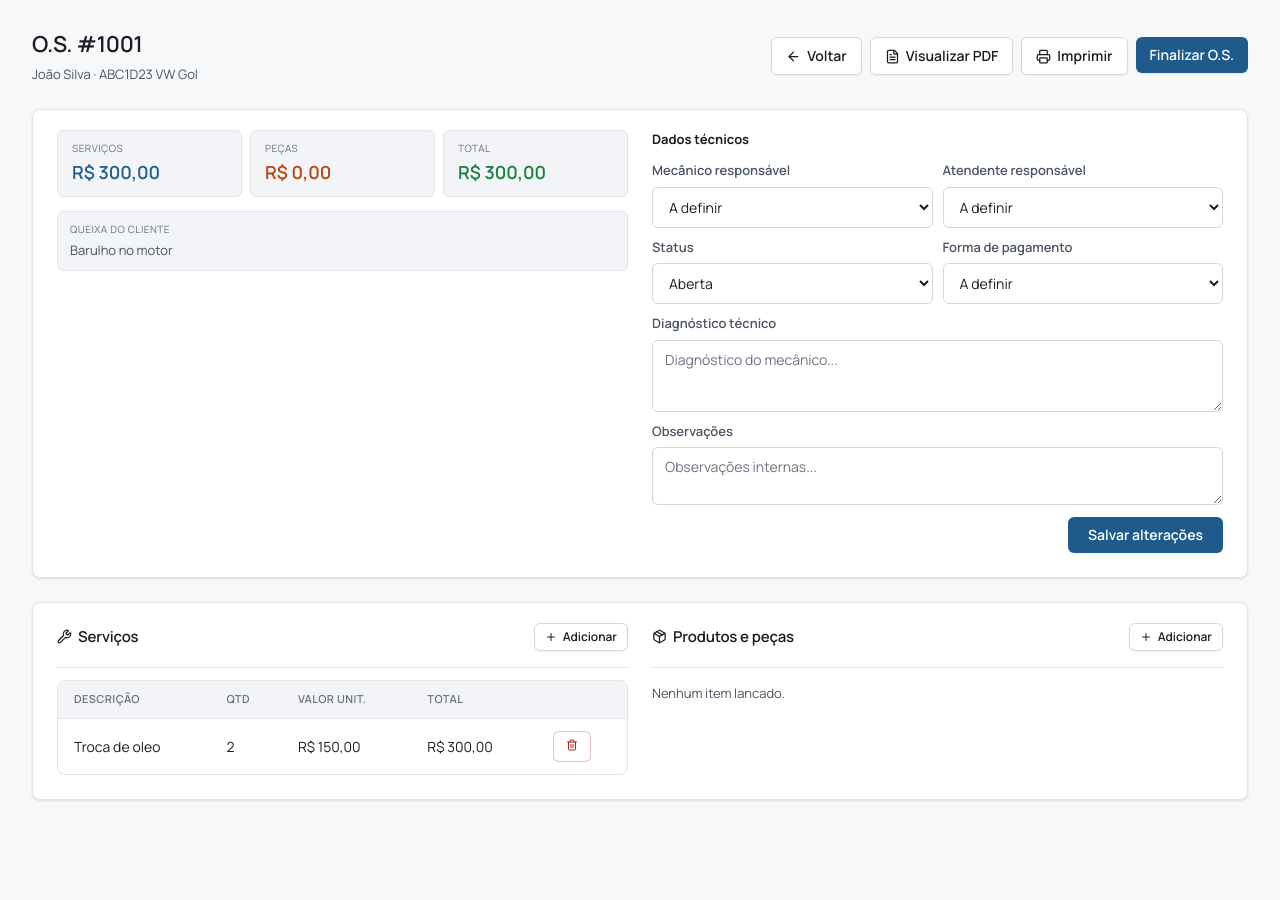
Scenario: Atualizar O.S. — lancamento de itens › remove um servico ja lancado e zera os totais
Click the button titled "Remover item": (572, 746) [553, 731, 591, 762]
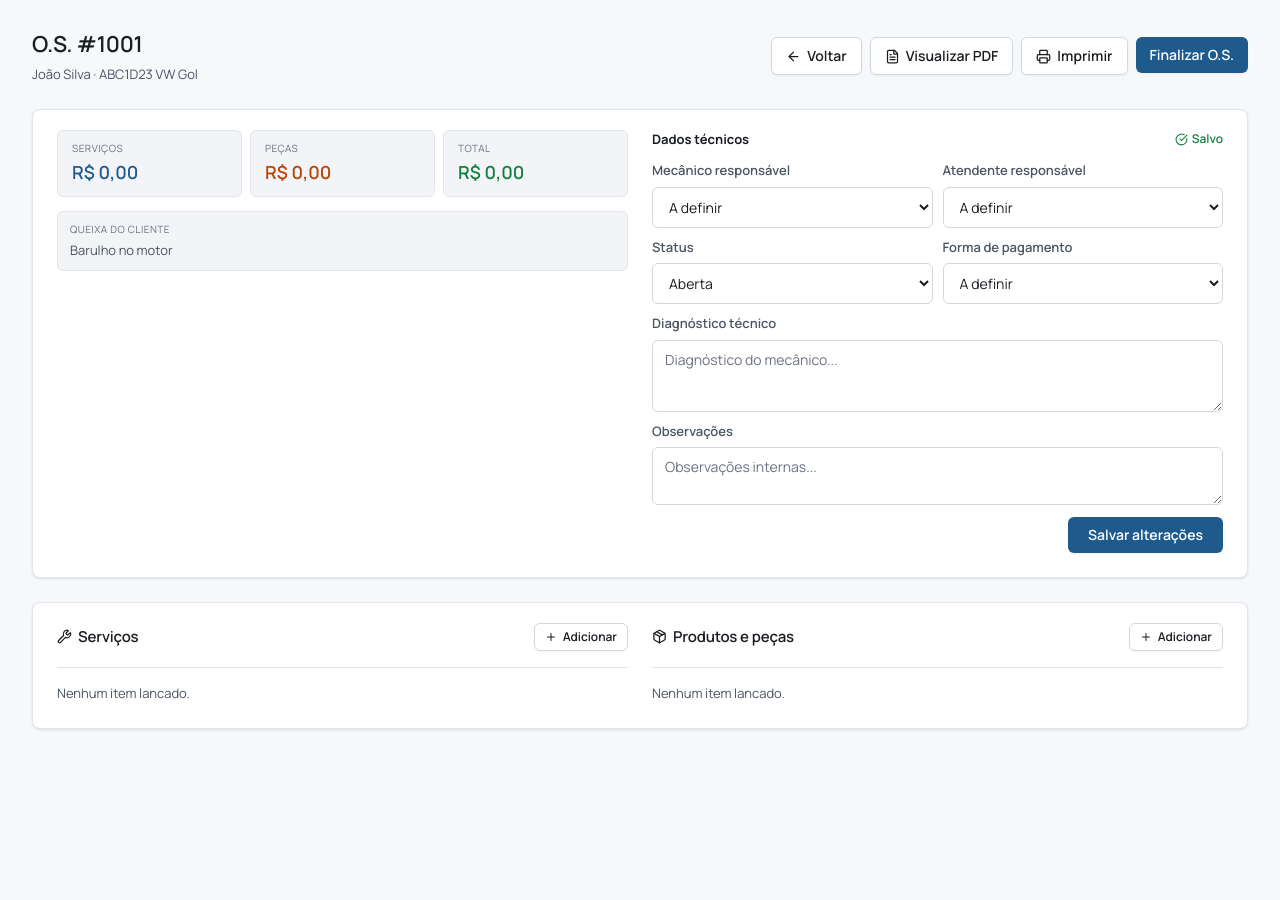
Expected: the 1st text "R$ 0,00" is shown, [72, 160, 138, 184]
Result: the 1st text "Nenhum item lancado." is shown at [57, 684, 190, 702]
